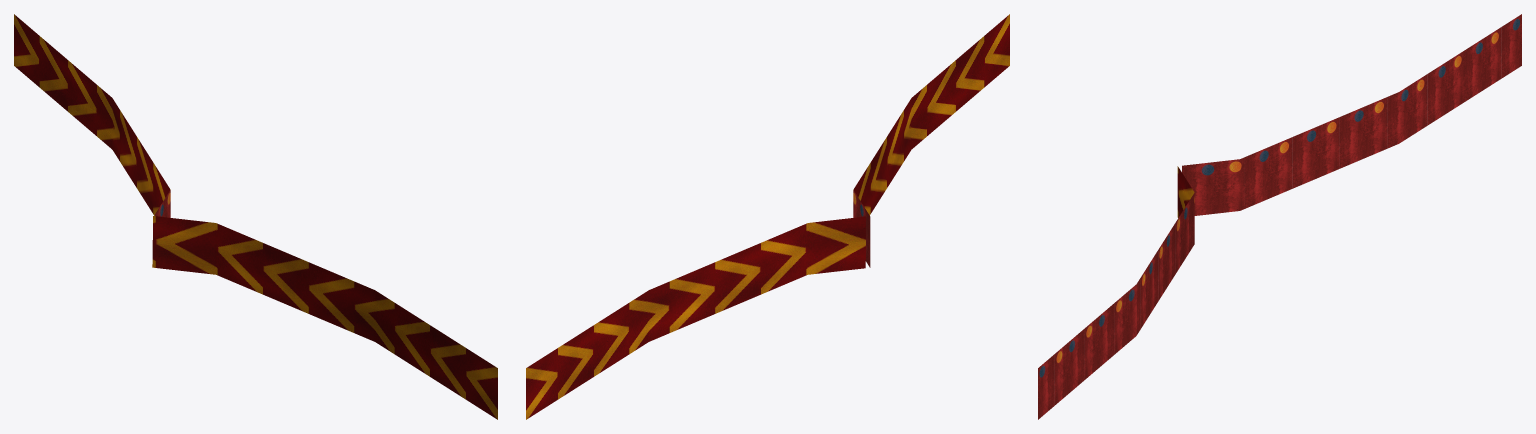
File: sign_correct_direction.glb
3 renders of one model, left to right at view 1: azimuth 30°, elevation 25°; view 2: azimuth 150°, elevation 25°; view 3: azimuth 330°, elevation 25°, orthographic.
Parts seen in each view (by area): view 1: arrows.jpg__; view 2: arrows.jpg__, columnred.png__; view 3: columnred.png__, arrows.jpg__.
Part boxes in pixels (bbox=[...]): arrows.jpg__: bbox=[14, 14, 497, 419]; arrows.jpg__: bbox=[526, 14, 1009, 419]; columnred.png__: bbox=[853, 190, 870, 267]; columnred.png__: bbox=[1038, 14, 1521, 419]; arrows.jpg__: bbox=[1177, 166, 1194, 217].
Bounding box in the file's own units: 4.16 × 2 × 33.87.
Materials: 2 (2 with a texture image).
